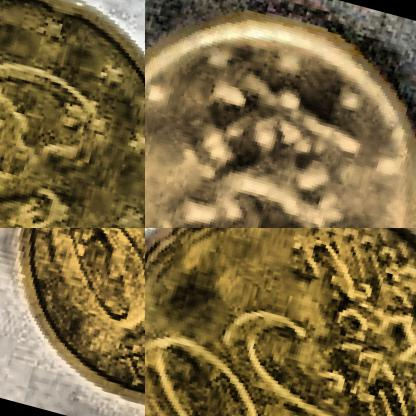coin: (145, 0, 415, 227), (145, 228, 415, 415), (0, 0, 144, 227), (0, 228, 144, 415)
